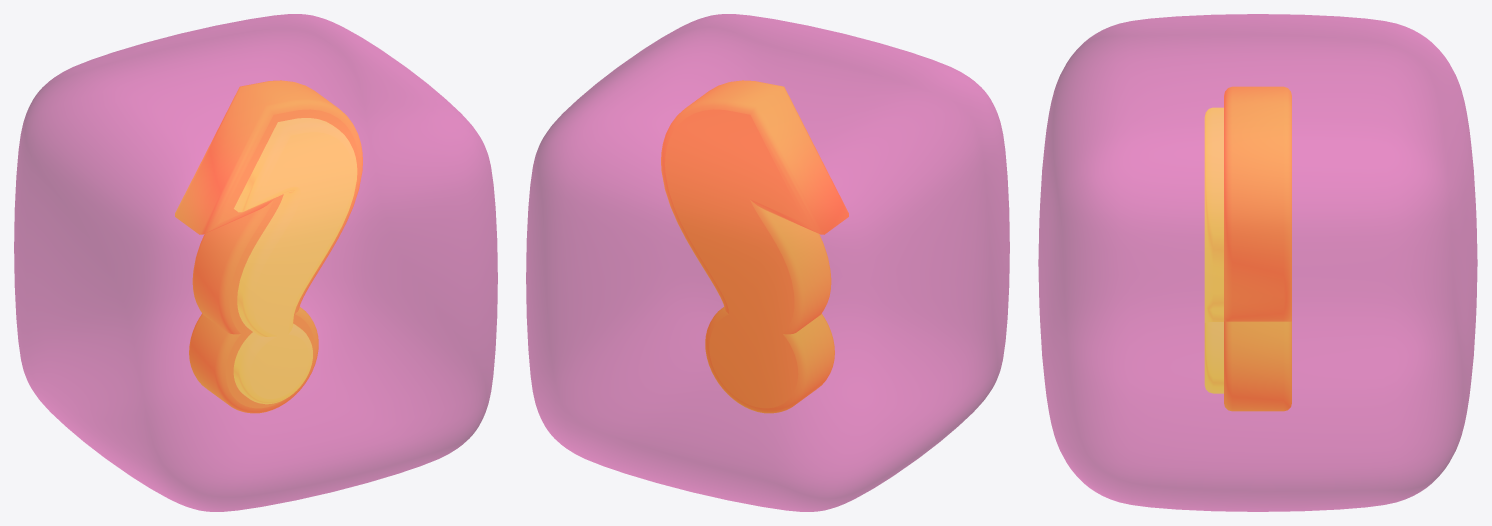
Rendered from item_box.glb.
3 renders of one model, left to right at view 1: azimuth 30°, elevation 25°; view 2: azimuth 150°, elevation 25°; view 3: azimuth 270°, elevation 25°, orthographic. The views are drawn at different scales.
Visible parts, largest first — view 1: Shell, Mark, MarkEdge; view 2: Shell, MarkEdge; view 3: Shell, MarkEdge, Mark.
Part boxes in pixels (x1=…): Shell: x1=14, y1=14, x2=497, y2=511; Mark: x1=233, y1=118, x2=357, y2=404; MarkEdge: x1=175, y1=80, x2=362, y2=413; Shell: x1=526, y1=14, x2=1009, y2=511; MarkEdge: x1=661, y1=80, x2=848, y2=413; Shell: x1=1038, y1=14, x2=1477, y2=511; MarkEdge: x1=1224, y1=86, x2=1291, y2=411; Mark: x1=1204, y1=107, x2=1223, y2=393.
Bounding box in the file's own units: 1.03 × 1.03 × 1.03.
